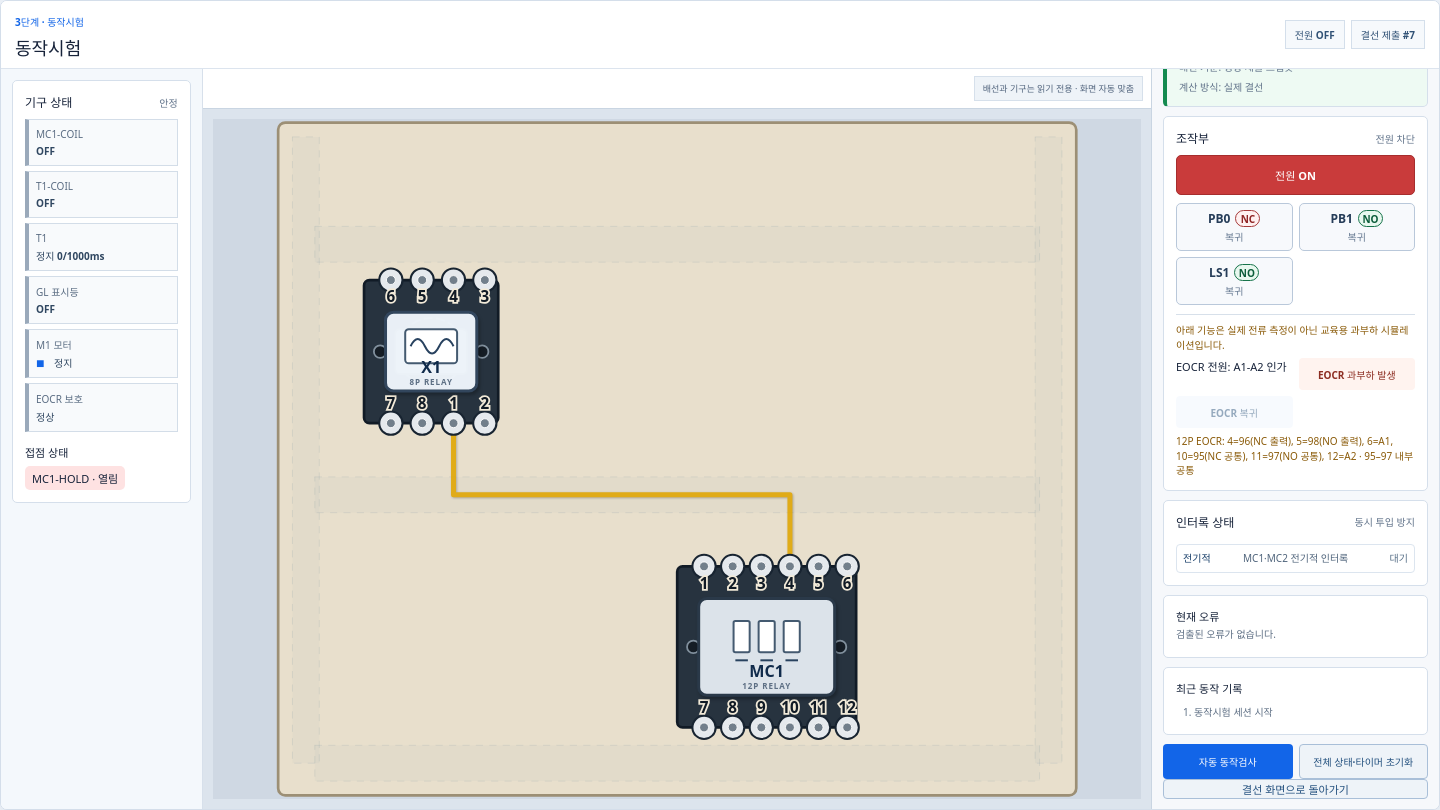
동작시험 › shows automatic operation check and can reset without changing wiring
(page scrolled)
Step 1. Click the button "자동 동작검사" → x=1228, y=762, box [1163,744,1292,779]
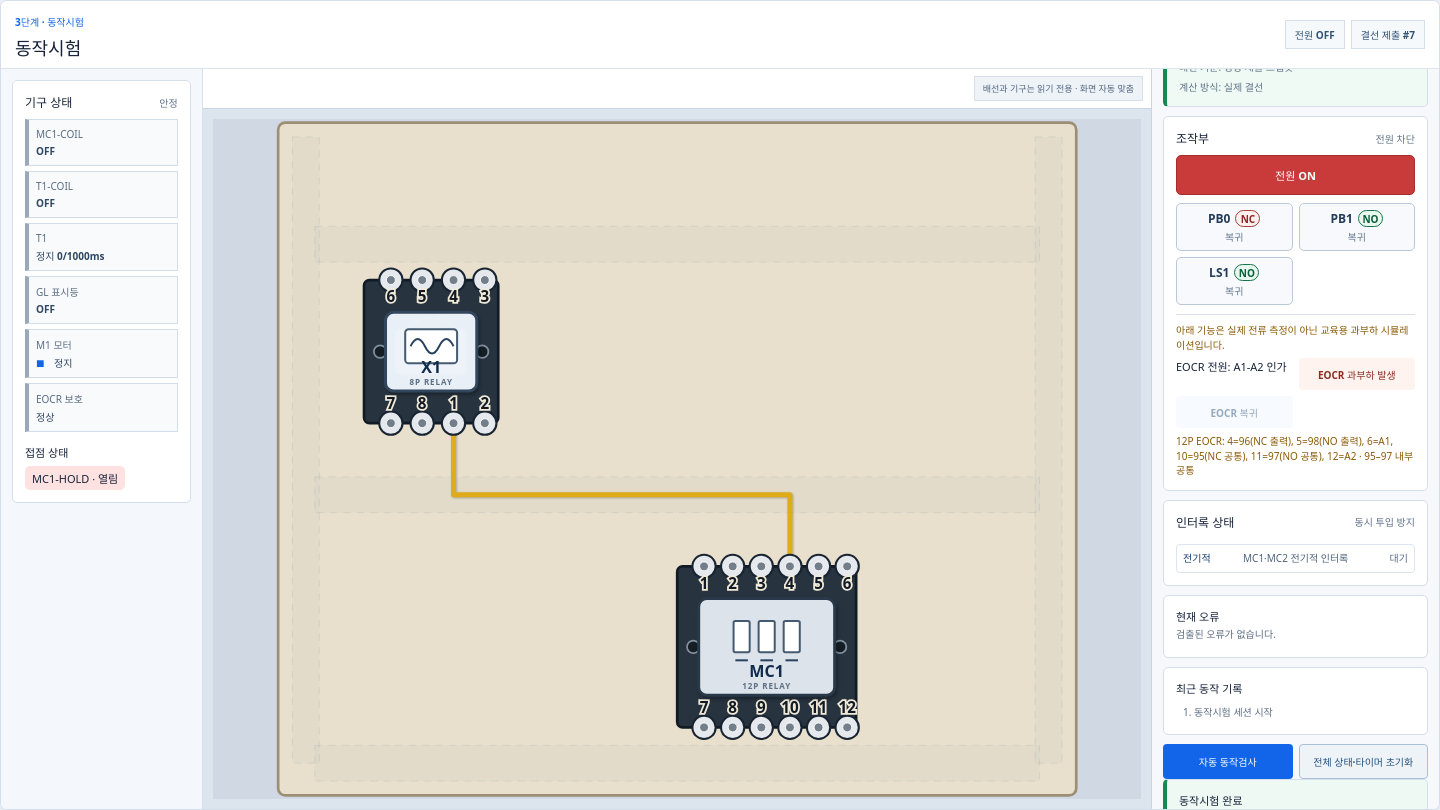
Expected: the text "동작시험 완료" is shown, [1179,793,1243,808]
Step 2. Click the button "전체 상태·타이머 초기화" → x=1363, y=762, box [1298,744,1428,779]
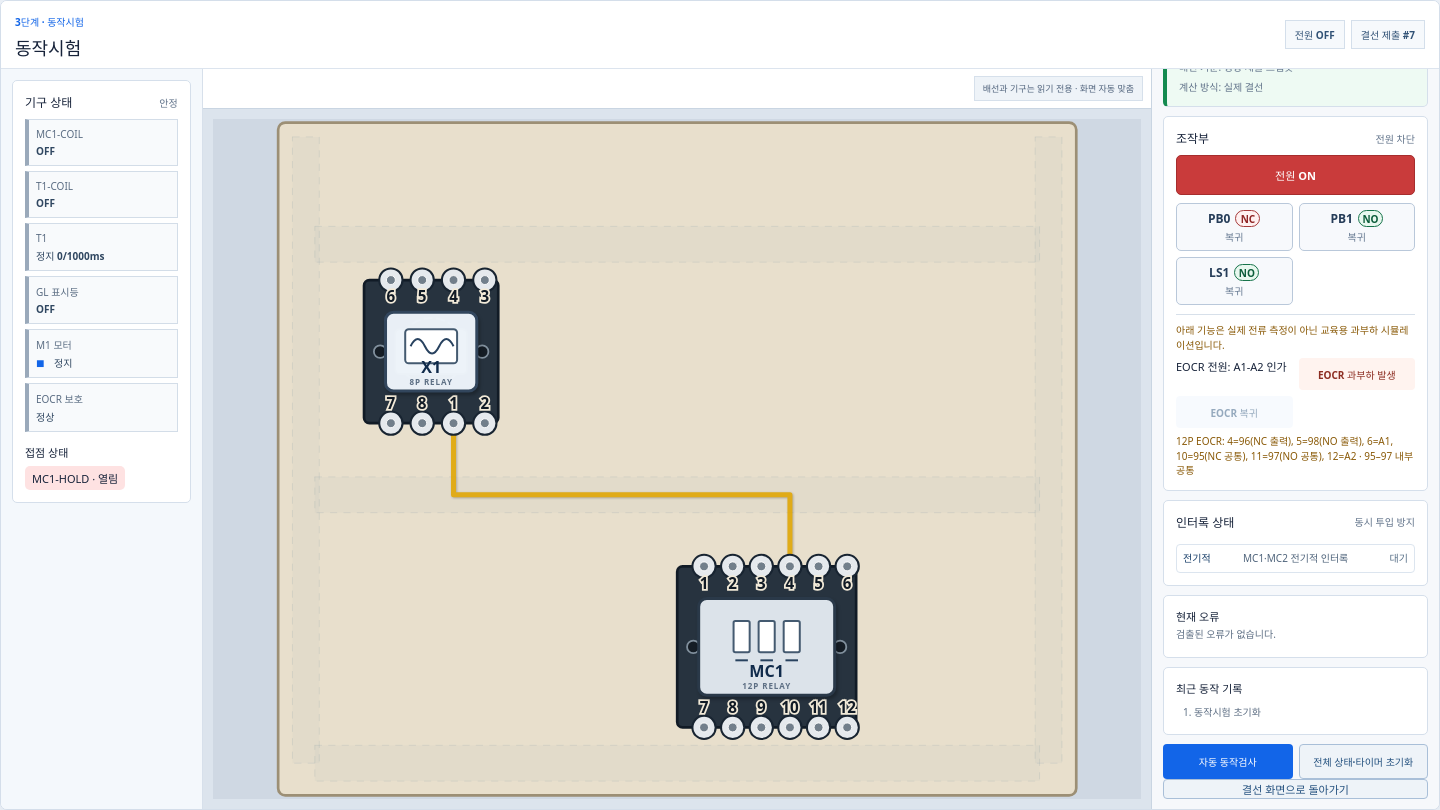
Expected: the list item "동작시험 초기화" is shown, [1194,705,1261,719]
